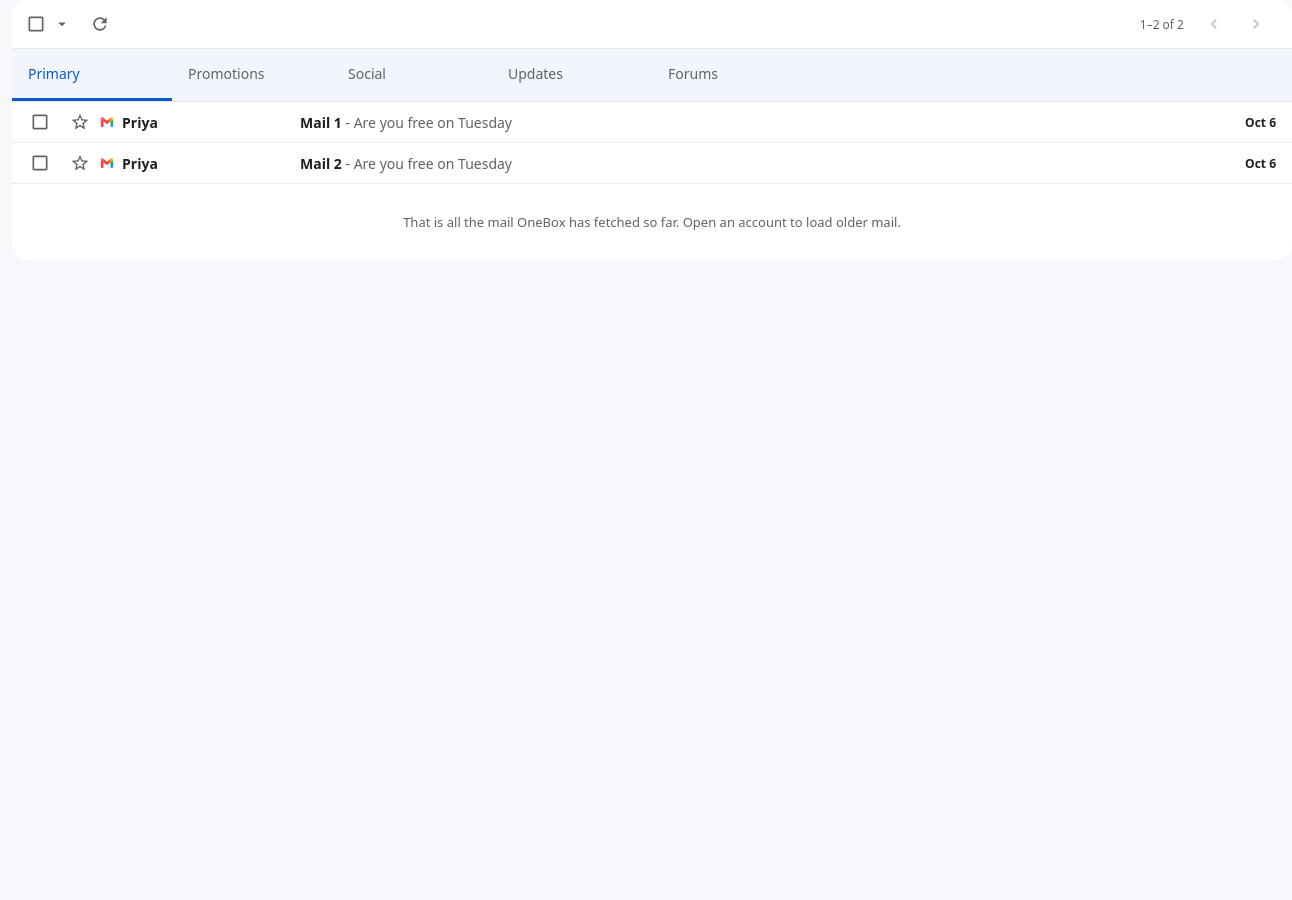
it: conversation actions › archives the selected conversations and drops them from the list at once
This screenshot has width=1292, height=900.
Click the checkbox named "Select conversation" in the row of "Mail 2" at (40, 163), box [20,143,60,183]
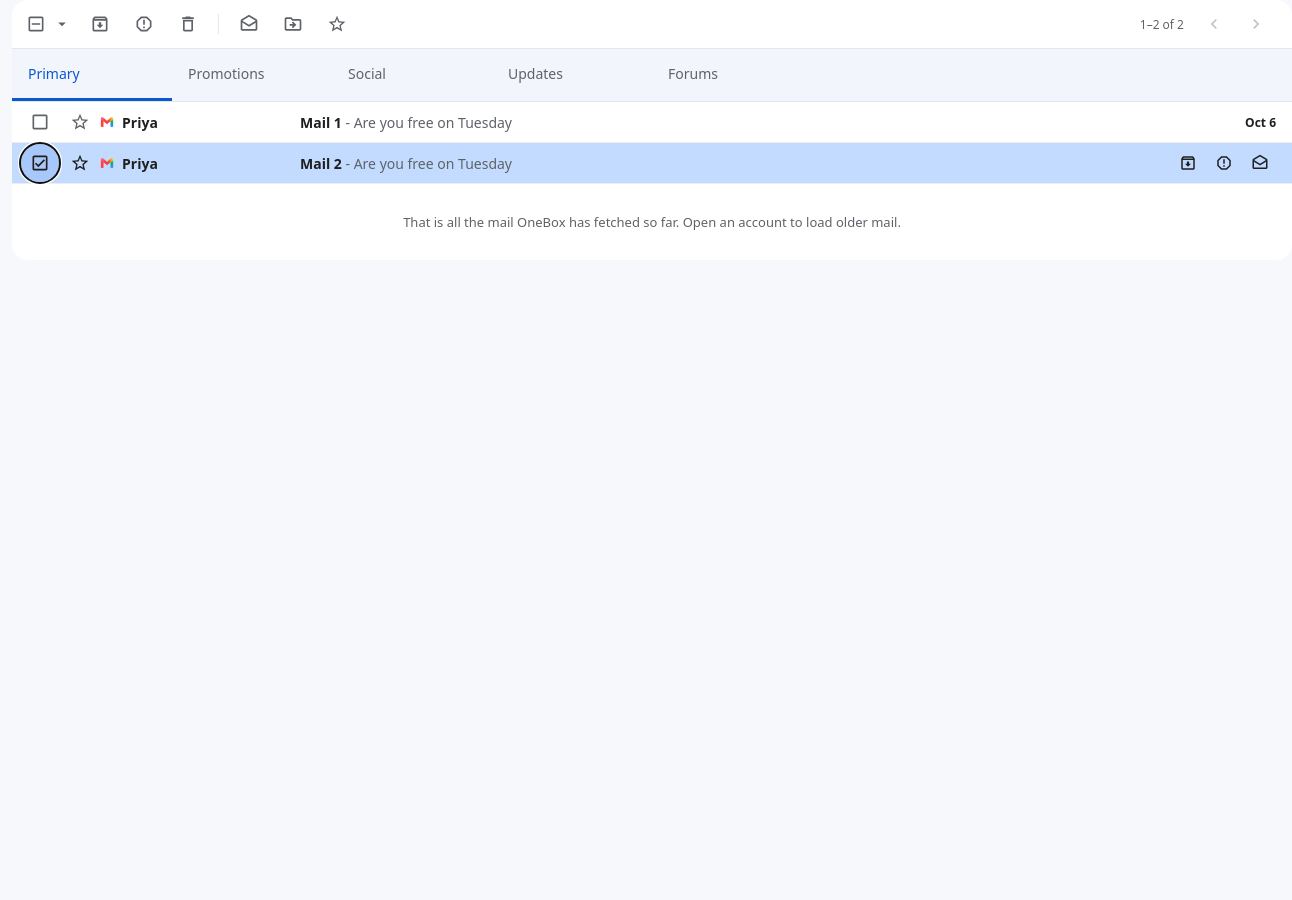
Click the button named "Archive" at (100, 24), box [80,4,120,44]
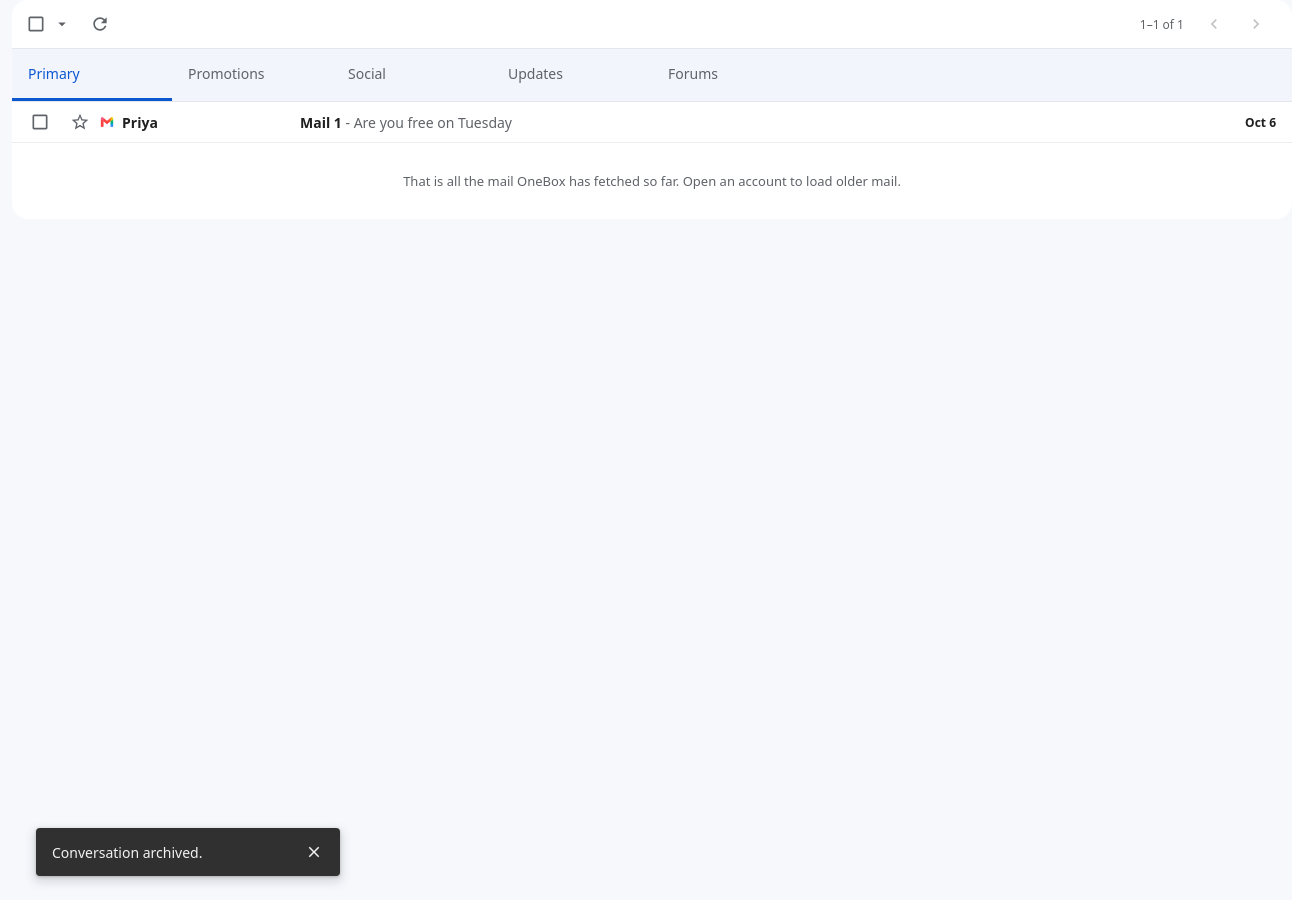
Expected: the text "Mail 1" is shown, [300,112,342,132]
Now the text "Mail 2" is gone
